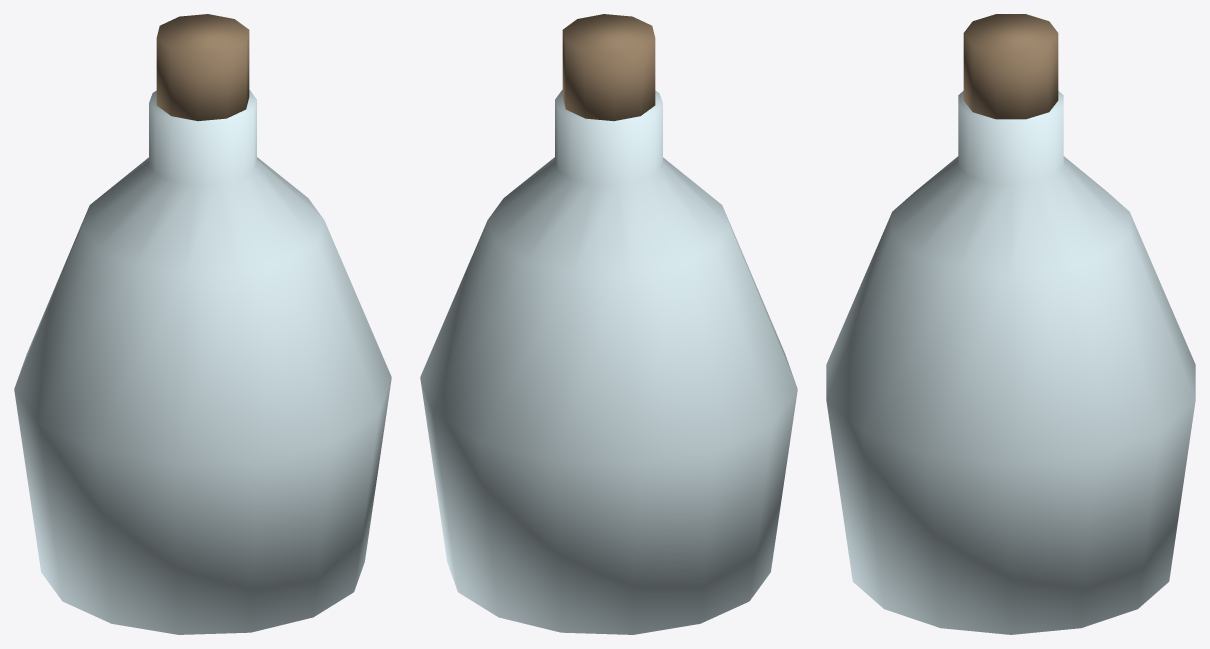
The model's file is potion_corked_big_potion.glb.
The picture shows the model from 3 angles, left to right: view 1: azimuth 30°, elevation 25°; view 2: azimuth 150°, elevation 25°; view 3: azimuth 270°, elevation 25°; orthographic projection.
Parts seen in each view (by area): view 1: GD_potion_corked_big_potion__m0, GD_potion_corked_big_potion__m2; view 2: GD_potion_corked_big_potion__m0, GD_potion_corked_big_potion__m2; view 3: GD_potion_corked_big_potion__m0, GD_potion_corked_big_potion__m2.
Part boxes in pixels (x1,y1,x2,y2): GD_potion_corked_big_potion__m0: (14, 90, 391, 634); GD_potion_corked_big_potion__m2: (156, 14, 249, 121); GD_potion_corked_big_potion__m0: (420, 90, 797, 634); GD_potion_corked_big_potion__m2: (562, 14, 655, 121); GD_potion_corked_big_potion__m0: (826, 91, 1195, 634); GD_potion_corked_big_potion__m2: (963, 14, 1058, 119).
Bounding box in the file's own units: 0.28 × 0.435 × 0.273.
